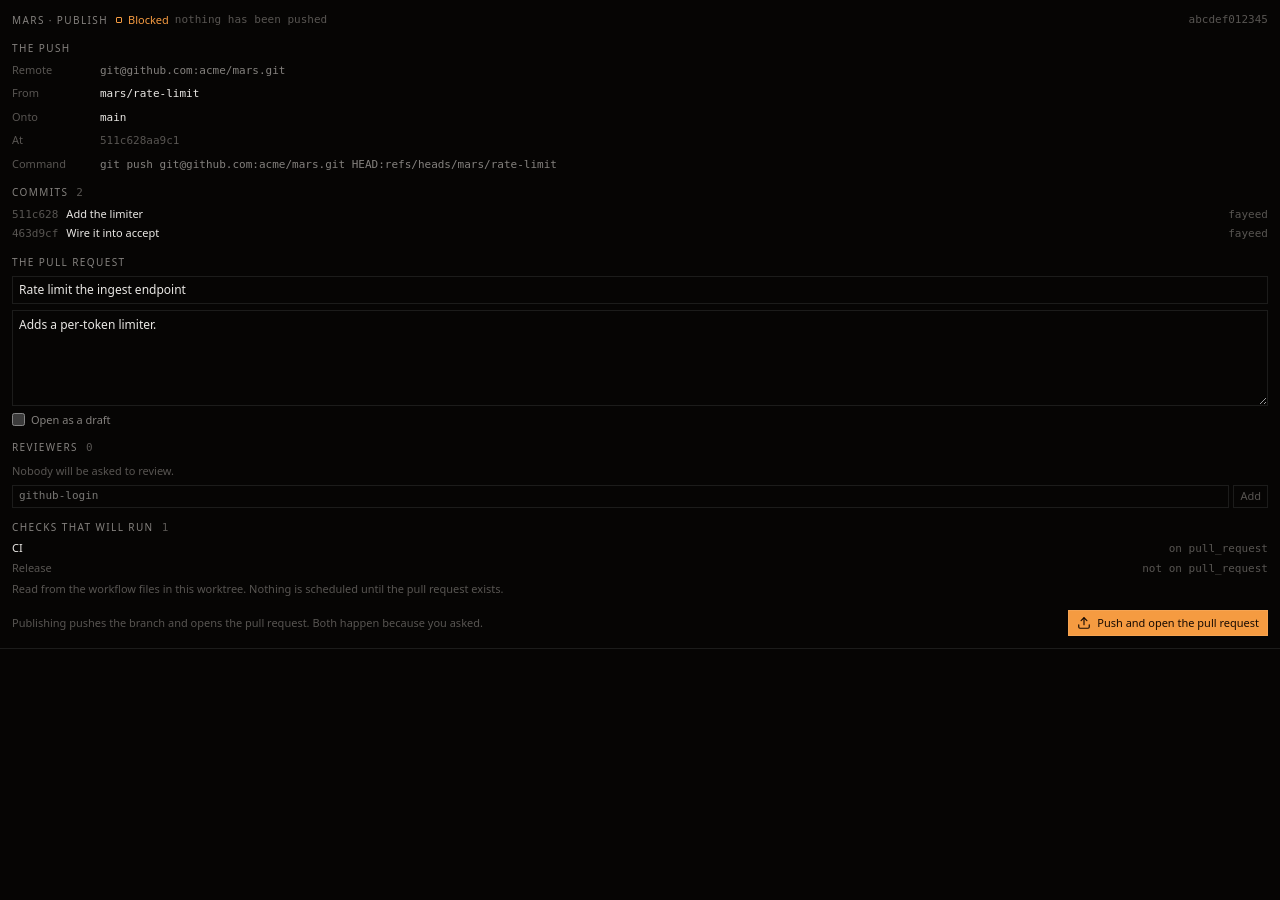
Test: PublishPreview: the exact pull request › re-checks rather than publishing while the plan is edited
In the field named "Pull request title": (640, 290) [12,276,1268,304], type "!"
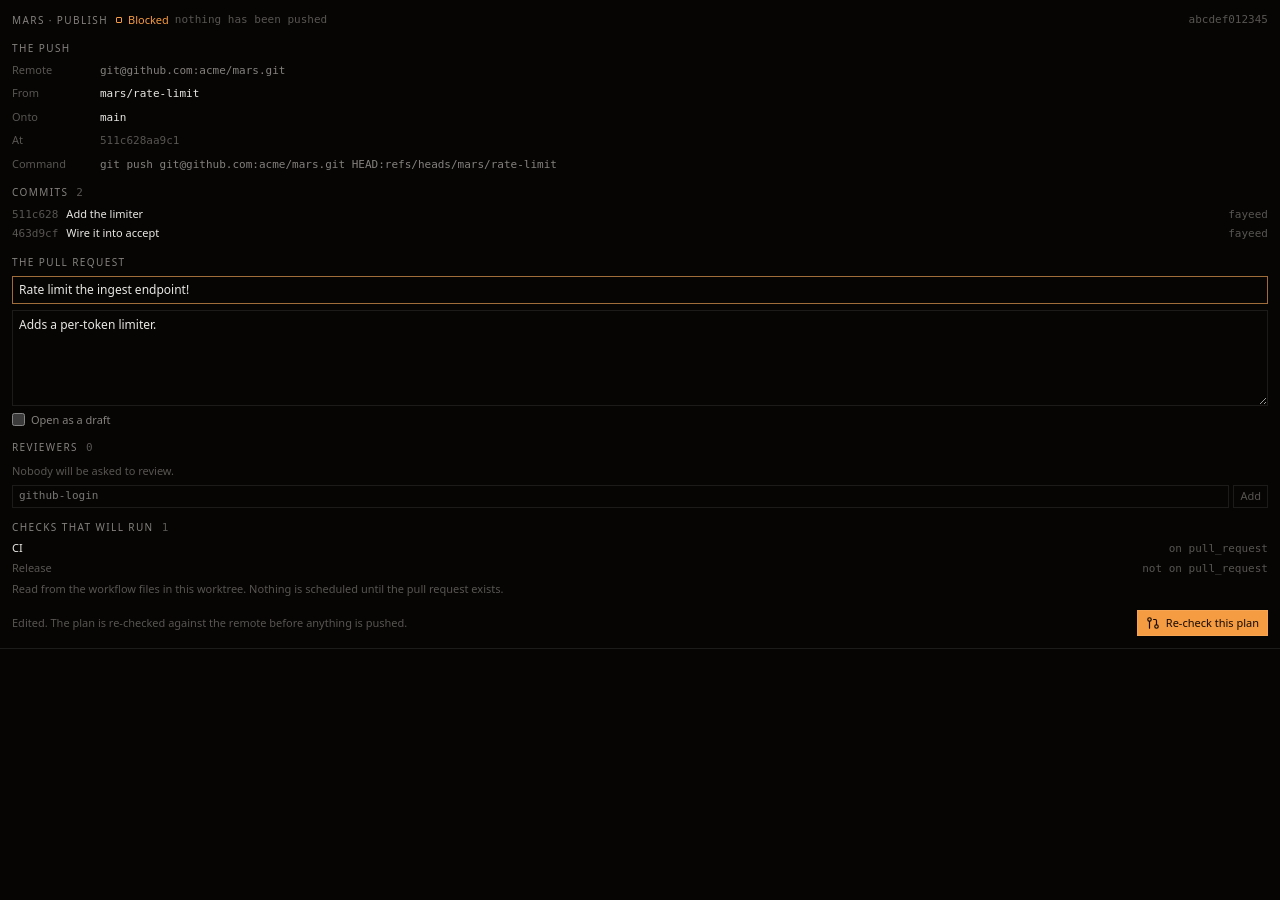
Expected: the button "Push and open" is gone
Expected: the button "Re-check this plan" is shown, [1137,610,1268,636]
